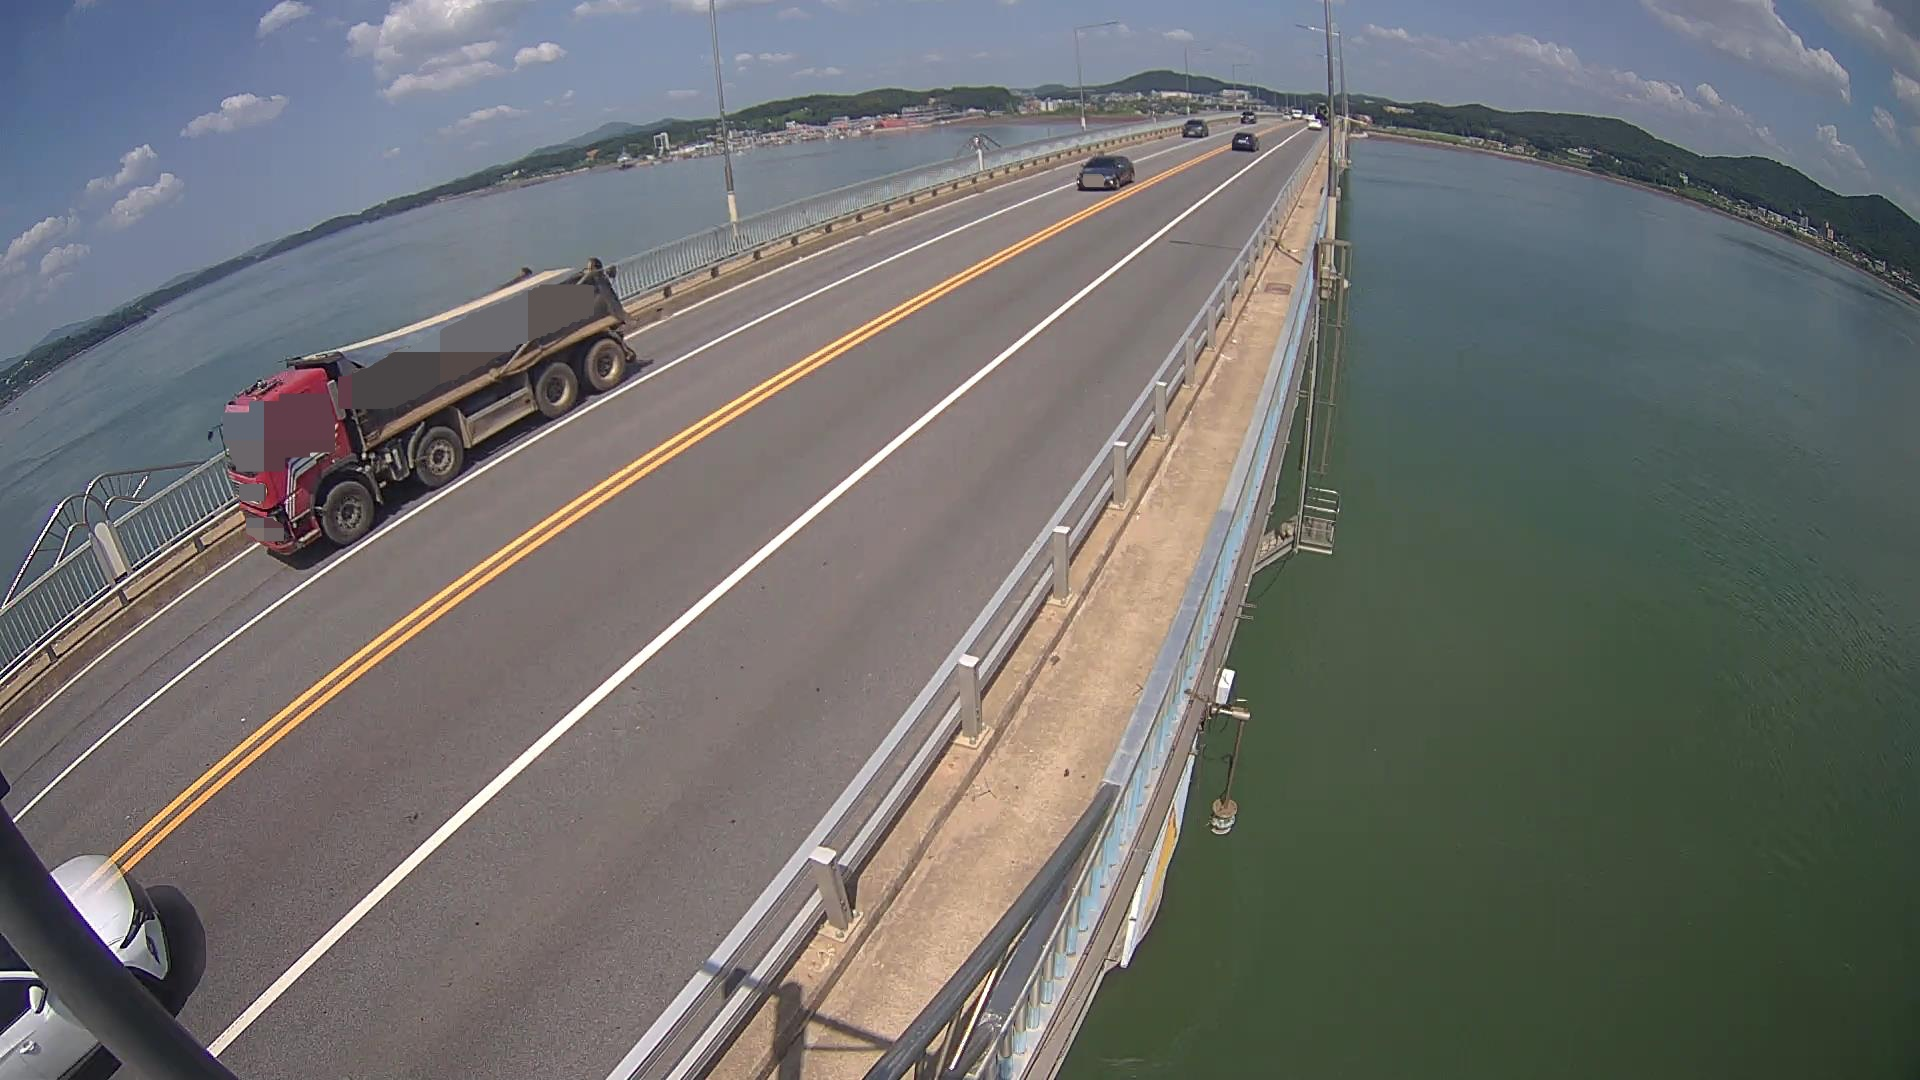정상차량: (208, 257, 640, 555)
